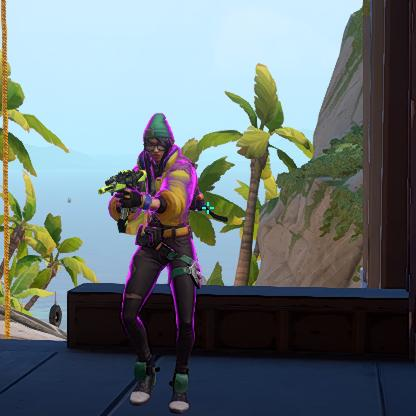enemyBody: (137, 166, 183, 238)
enemyHead: (143, 130, 170, 161)
